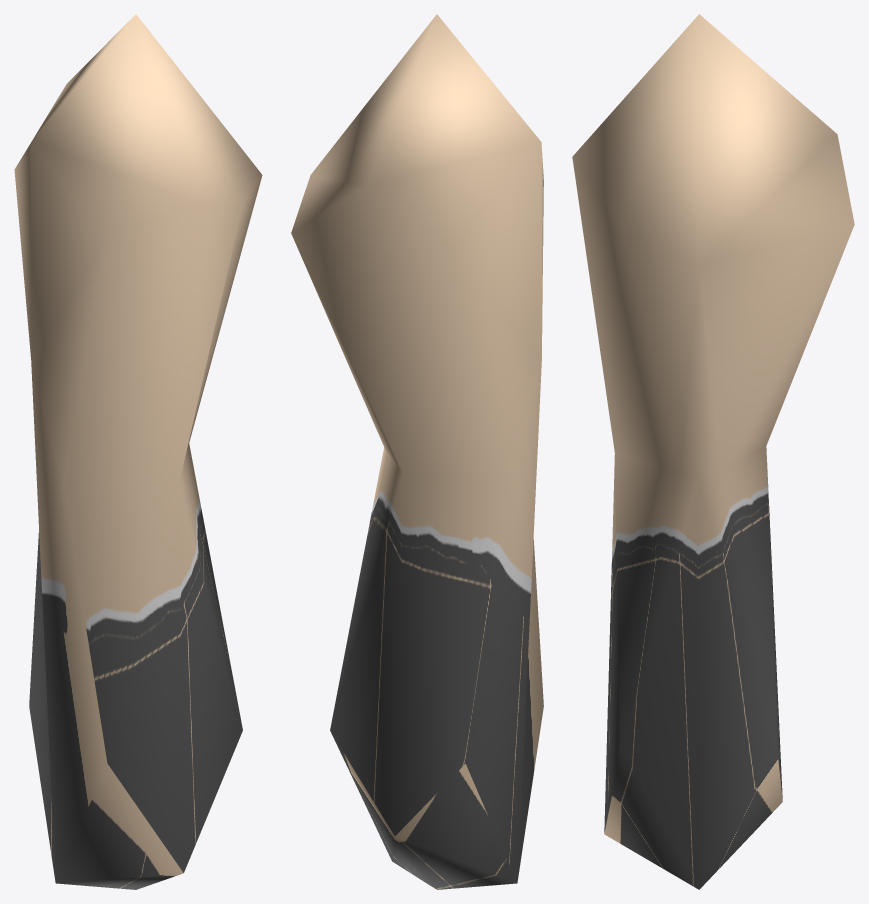
The model's file is TtianglePlayerLeftLeg.obj.
3 views of the same model, side by side, from view 1: azimuth 30°, elevation 25°; view 2: azimuth 150°, elevation 25°; view 3: azimuth 270°, elevation 25° (orthographic).
Parts seen in each view (by area): view 1: 左足; view 2: 左足; view 3: 左足.
Part boxes in pixels (x1,y1,x2,y2): 左足: (14, 14, 262, 889); 左足: (291, 14, 543, 889); 左足: (572, 14, 854, 889).
Size of the model in its own units: 0.29 by 1.05 by 0.3082.
1 material, 1 textured.
